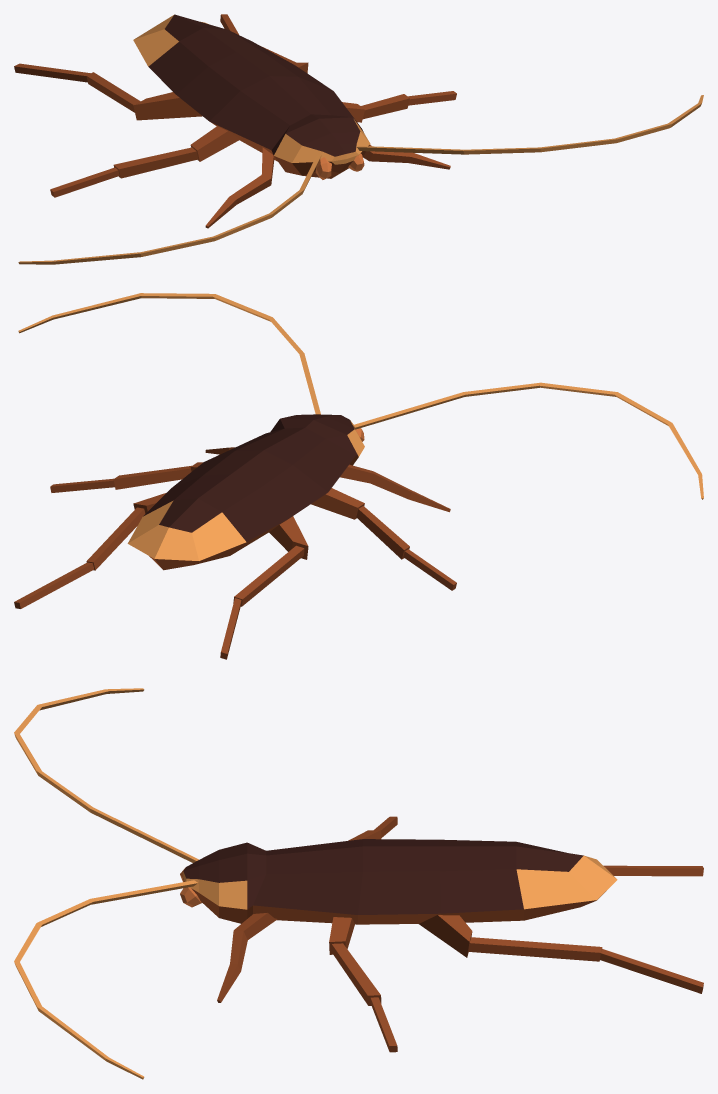
The model's file is cloporte.glb.
3 renders of one model, top to bottom at view 1: azimuth 30°, elevation 25°; view 2: azimuth 150°, elevation 25°; view 3: azimuth 270°, elevation 25°, orthographic. The views are drawn at different scales.
Parts seen in each view (by area): view 1: Geo_Cockroach; view 2: Geo_Cockroach; view 3: Geo_Cockroach.
Part boxes in pixels (<box>): Geo_Cockroach: <box>14,14,703,264</box>; Geo_Cockroach: <box>14,293,703,659</box>; Geo_Cockroach: <box>14,688,703,1079</box>.
Bounding box in the file's own units: 96.67 × 10.85 × 72.36.
Materials: 1 (1 with a texture image).
